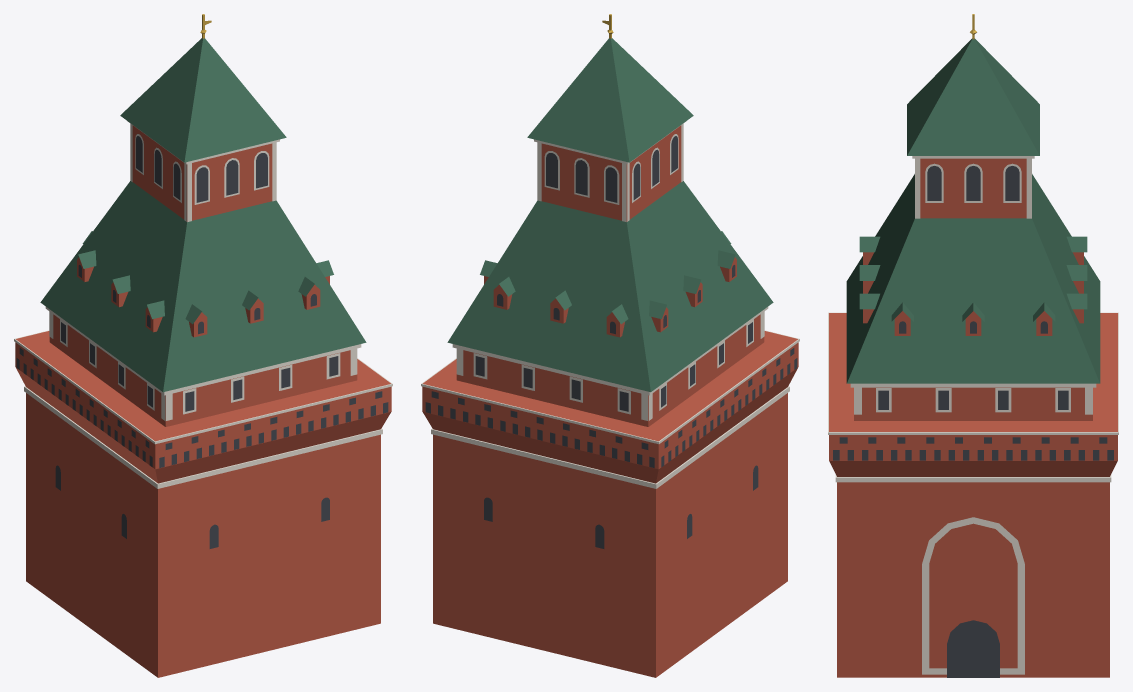
Rendered from moscow-kremlin-constantine-helen-tower.glb.
The picture shows the model from 3 angles, left to right: view 1: azimuth 30°, elevation 25°; view 2: azimuth 150°, elevation 25°; view 3: azimuth 270°, elevation 25°; orthographic projection. The views are drawn at different scales.
Visible parts, largest first — view 1: Constantine and Helen Tower; view 2: Constantine and Helen Tower; view 3: Constantine and Helen Tower.
Boxes of the visible parts, box(x1,y1,x2,y2) form: Constantine and Helen Tower: box(14, 14, 392, 677); Constantine and Helen Tower: box(421, 14, 799, 677); Constantine and Helen Tower: box(828, 14, 1118, 677).
Bounding box in the file's own units: 16.02 × 37.8 × 16.42.
